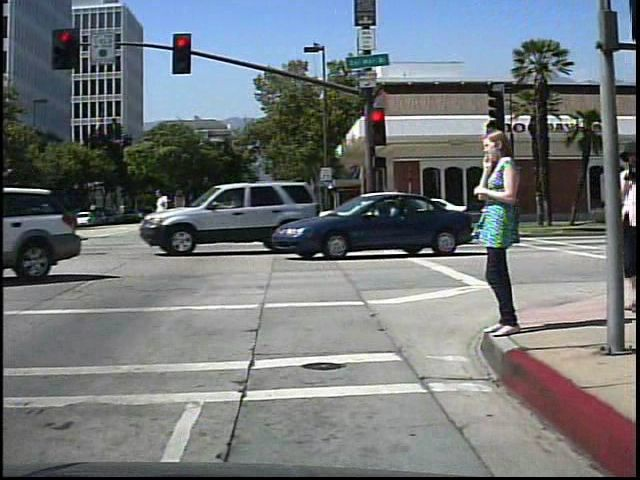person: (470, 120, 528, 342)
